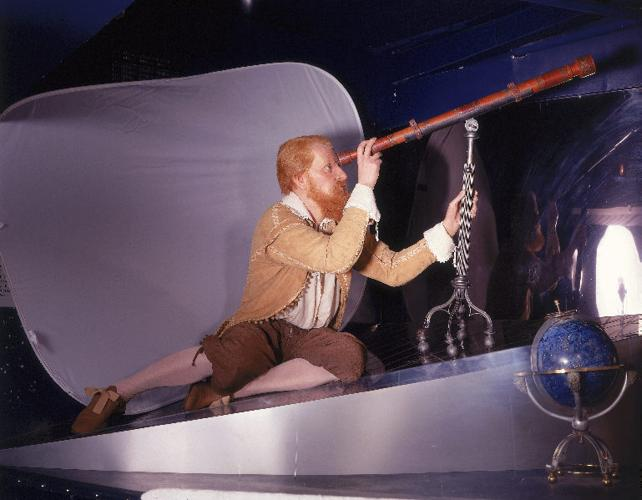person: (77, 133, 480, 436)
